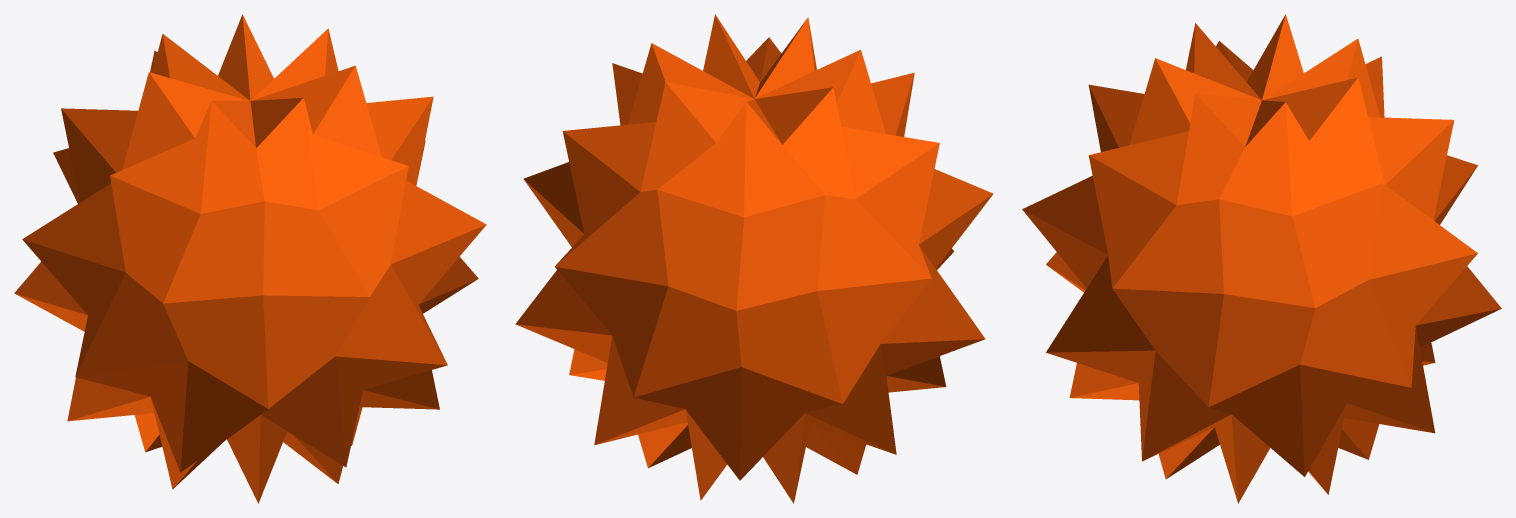
File: Soleil.FBX
3 renders of one model, left to right at view 1: azimuth 30°, elevation 25°; view 2: azimuth 150°, elevation 25°; view 3: azimuth 270°, elevation 25°, orthographic.
Parts seen in each view (by area): view 1: Soleil externe; view 2: Soleil externe; view 3: Soleil externe.
Boxes of the visible parts, left/top/right/bottom form: Soleil externe: left=14, top=14, right=486, bottom=503; Soleil externe: left=515, top=14, right=993, bottom=503; Soleil externe: left=1022, top=14, right=1501, bottom=503.
Size of the model in its own units: 299853 by 307565 by 284233.
